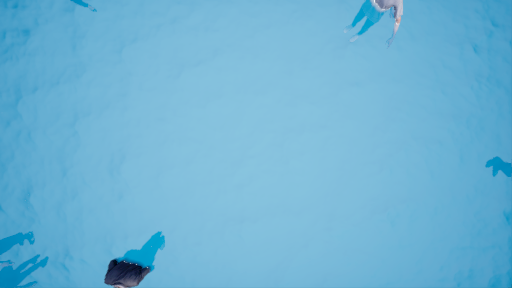person: (92, 226, 176, 288), (343, 1, 402, 47)
